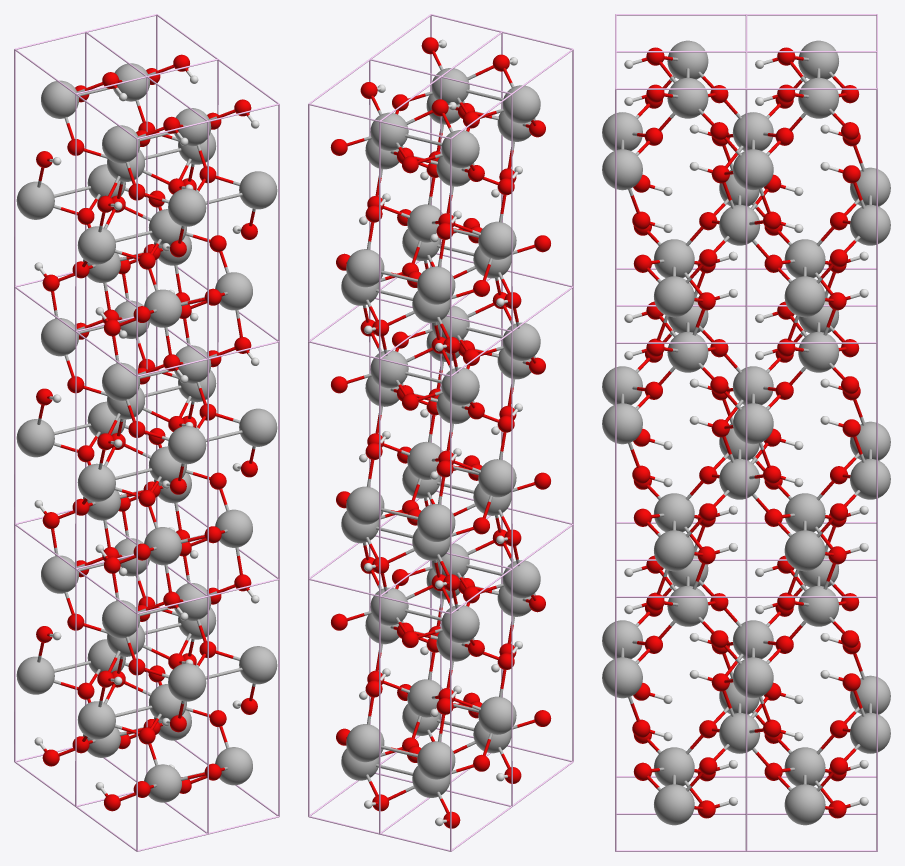
File: VHO2_3_cart.glb
3 renders of one model, left to right at view 1: azimuth 30°, elevation 25°; view 2: azimuth 150°, elevation 25°; view 3: azimuth 270°, elevation 25°, orthographic. The views are drawn at different scales.
Visible parts, largest first — view 1: V01.004, V01, V01.008, V01.005, V01.001, V01.009, V03.006, V03.010, V03.002, V03.004, V03, V03.008 (+33 smaller); view 2: V03.004, V03, V03.008, V03.002, V03.010, V04.008, V03.003, V03.006, V03.007, V03.011, V04.004, V04.010 (+33 smaller); view 3: V02.003, V02.001, V02.005, V02.009, V02.007, V02.011, V01.009, V01.001, V01.003, V01.005, V01.007, V01.011 (+39 smaller).
Part boxes in pixels (left/top/right/bottom): V01.004: left=168, top=426, right=206, bottom=464; V01: left=168, top=663, right=206, bottom=701; V01.008: left=168, top=188, right=206, bottom=226; V01.005: left=239, top=408, right=277, bottom=446; V01.001: left=239, top=646, right=277, bottom=684; V01.009: left=239, top=171, right=277, bottom=209; V03.006: left=16, top=419, right=54, bottom=457; V03.010: left=16, top=181, right=54, bottom=219; V03.002: left=16, top=656, right=54, bottom=694; V03.004: left=77, top=463, right=115, bottom=501; V03: left=77, top=701, right=115, bottom=739; V03.008: left=77, top=226, right=115, bottom=264; V03.004: left=478, top=459, right=516, bottom=497; V03: left=478, top=696, right=516, bottom=734; V03.008: left=478, top=221, right=516, bottom=259; V03.002: left=417, top=741, right=455, bottom=779; V03.010: left=417, top=266, right=455, bottom=304; V04.008: left=502, top=85, right=540, bottom=123; V03.003: left=346, top=724, right=384, bottom=762; V03.006: left=417, top=504, right=455, bottom=541; V03.007: left=346, top=486, right=384, bottom=524; V03.011: left=346, top=249, right=384, bottom=287; V04.004: left=502, top=322, right=540, bottom=360; V04.010: left=441, top=130, right=479, bottom=168; V02.003: left=784, top=784, right=825, bottom=825; V02.001: left=654, top=784, right=694, bottom=825; V02.005: left=654, top=530, right=694, bottom=571; V02.009: left=654, top=276, right=694, bottom=317; V02.007: left=784, top=530, right=825, bottom=571; V02.011: left=784, top=276, right=825, bottom=317; V01.009: left=602, top=149, right=642, bottom=190; V01.001: left=602, top=657, right=642, bottom=698; V01.003: left=732, top=657, right=773, bottom=698; V01.005: left=602, top=403, right=642, bottom=444; V01.007: left=732, top=403, right=773, bottom=444; V01.011: left=732, top=149, right=773, bottom=190.
Size of the model in its own units: 6.22 by 29.59 by 10.15.
